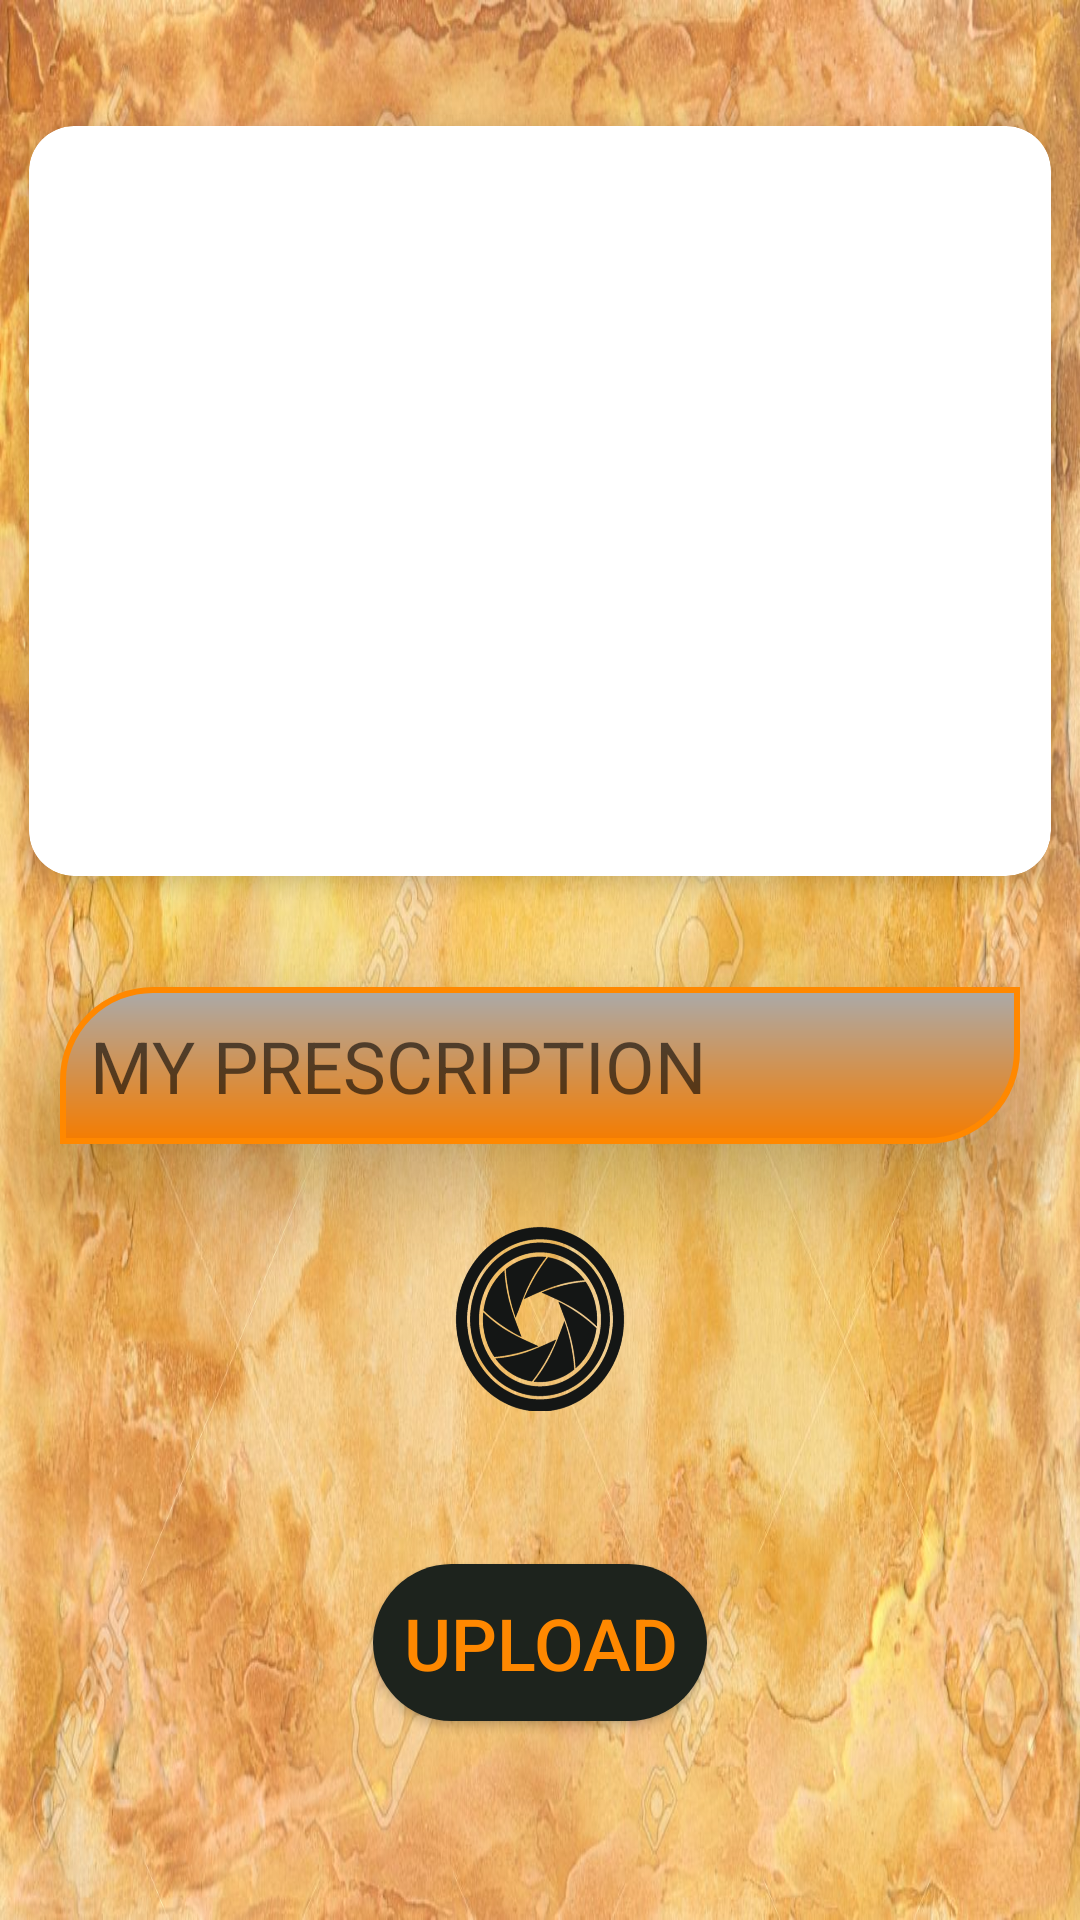

Locate icon controls on the screen. Image size 1080 × 1920, boxes as (x1, y1, x2, y2).
capture: (438, 1204, 645, 1414)
